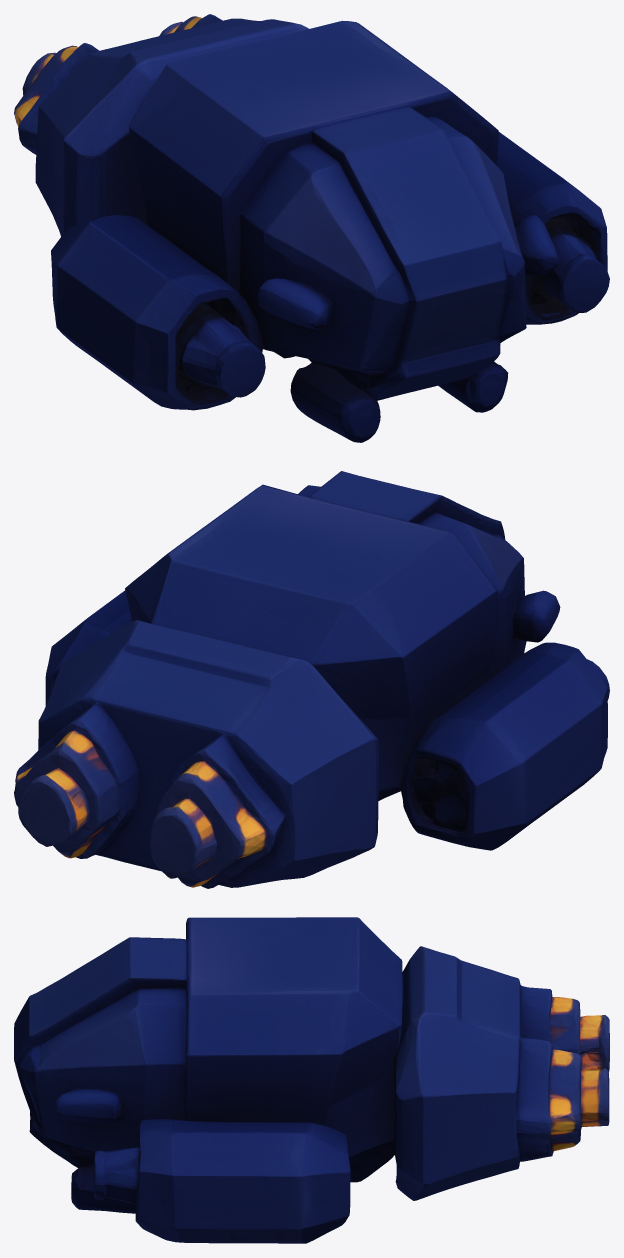
Rendered from pirate-drone.glb.
3 renders of one model, top to bottom at view 1: azimuth 30°, elevation 25°; view 2: azimuth 150°, elevation 25°; view 3: azimuth 270°, elevation 25°, orthographic. The views are drawn at different scales.
Parts seen in each view (by area): view 1: world; view 2: world; view 3: world.
Boxes of the visible parts, box(x1,y1,x2,y2) form: world: box(14, 14, 609, 442); world: box(14, 471, 609, 888); world: box(14, 917, 609, 1243).
Bounding box in the file's own units: 0.7738 × 0.4243 × 0.9987.
1 material, 1 textured.
